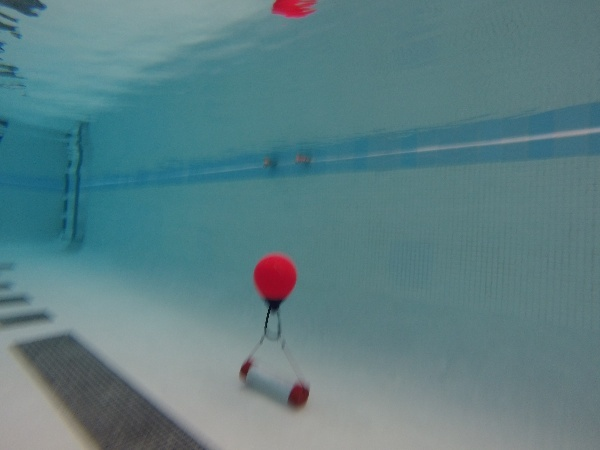buoy_red: (249, 254, 298, 314)
